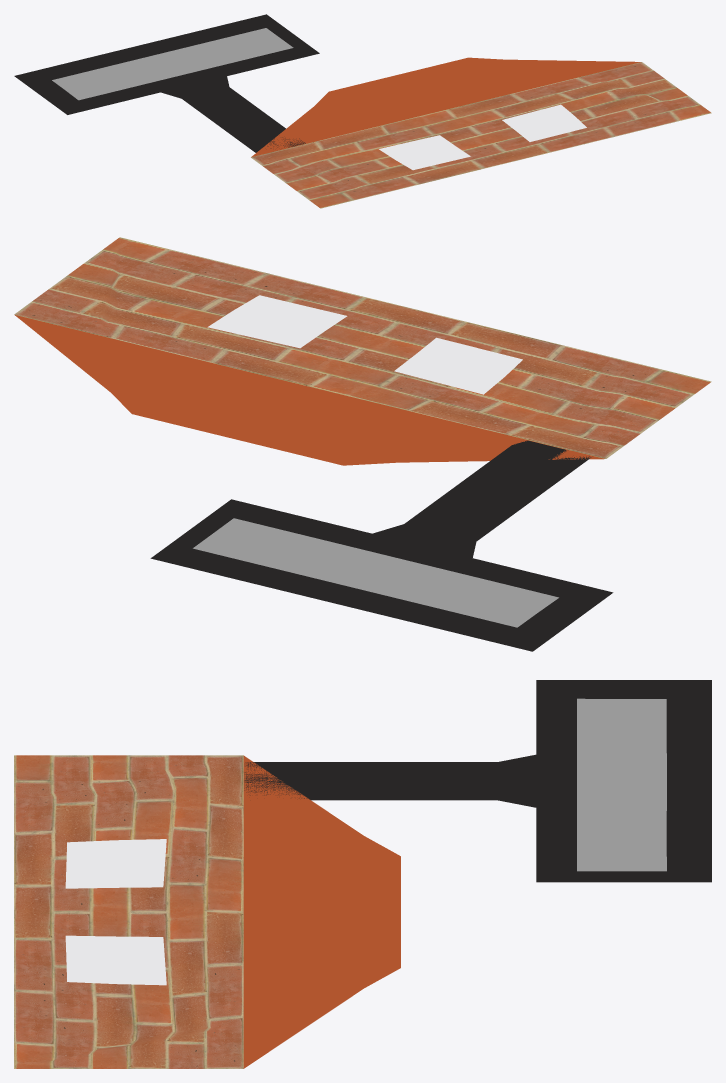
File: restaurant.fbx
3 renders of one model, top to bottom at view 1: azimuth 30°, elevation 25°; view 2: azimuth 150°, elevation 25°; view 3: azimuth 270°, elevation 25°, orthographic. The views are drawn at different scales.
Visible parts, largest first — view 1: pPlane3; view 2: pPlane3; view 3: pPlane3.
Part boxes in pixels (x1=…): pPlane3: x1=14, y1=14, x2=711, y2=208; pPlane3: x1=14, y1=237, x2=711, y2=651; pPlane3: x1=14, y1=680, x2=711, y2=1068.
Bounding box in the file's own units: 1.2 × 0 × 0.9114.
5 materials, 1 textured.
